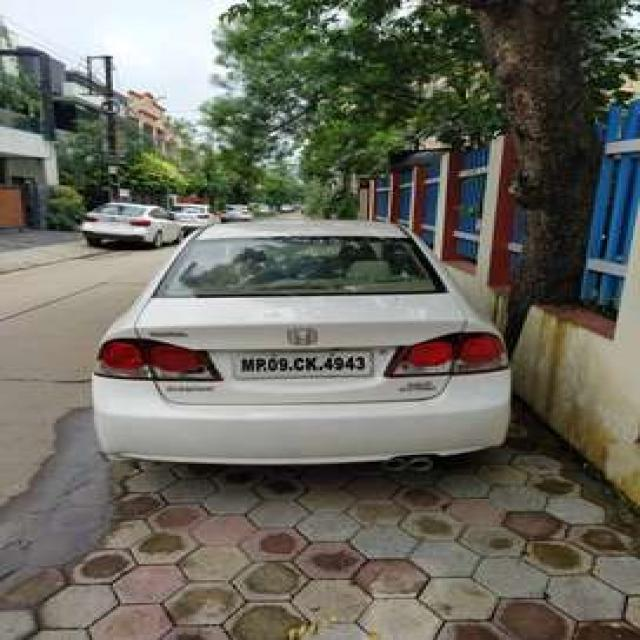Plate: (232, 350, 371, 375)
